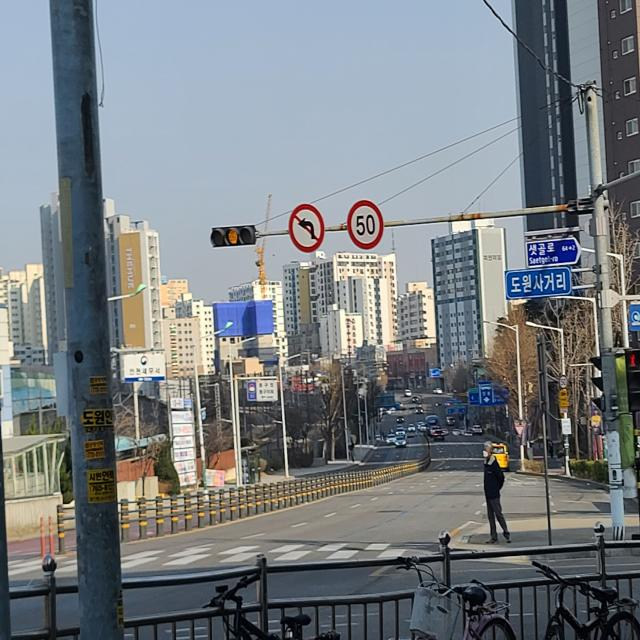Yellow Light: (226, 227, 239, 246)
